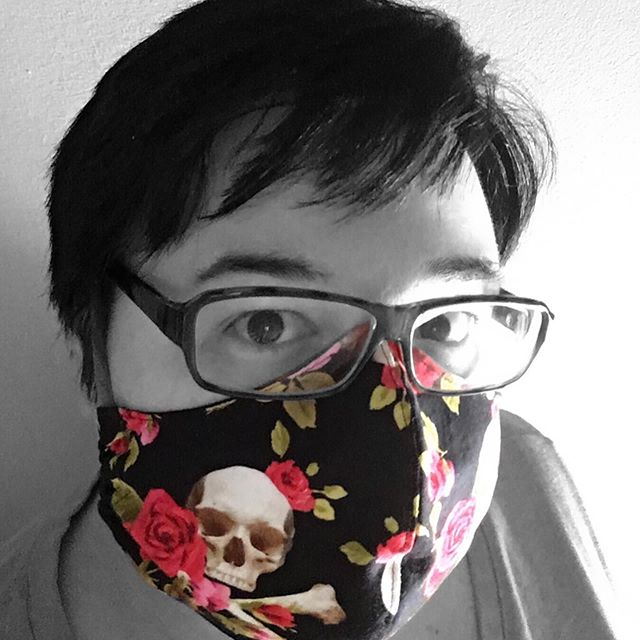homemade: (82, 338, 535, 640)
